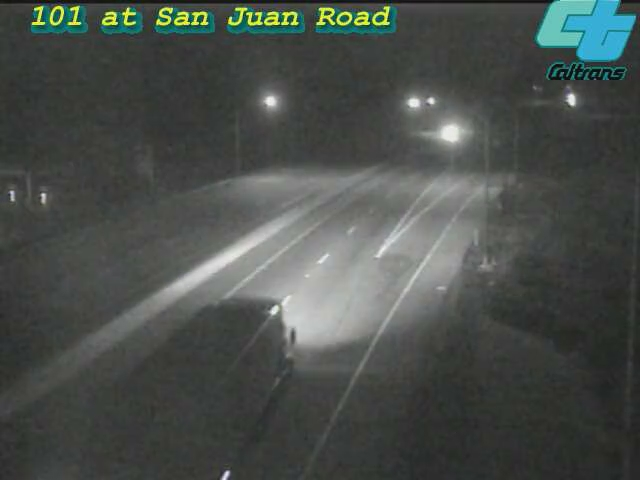vehicle: (166, 327, 276, 437), (428, 107, 478, 157)
